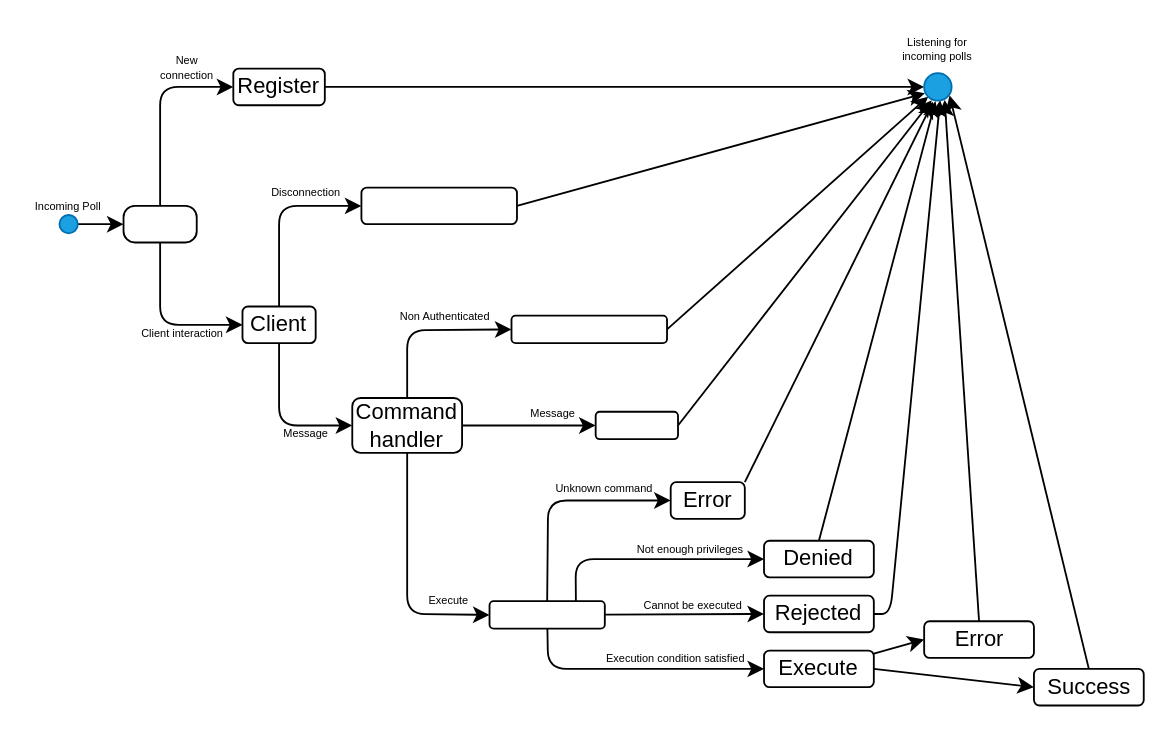
This 1175x737 diagram has some shape labels left out. The centre of each missing label's shape, as x and y in pixels:
Authentication: point 588,328
Command: point 546,614
Remove client: point 438,205
Send: point 636,424
Server: point 159,223
